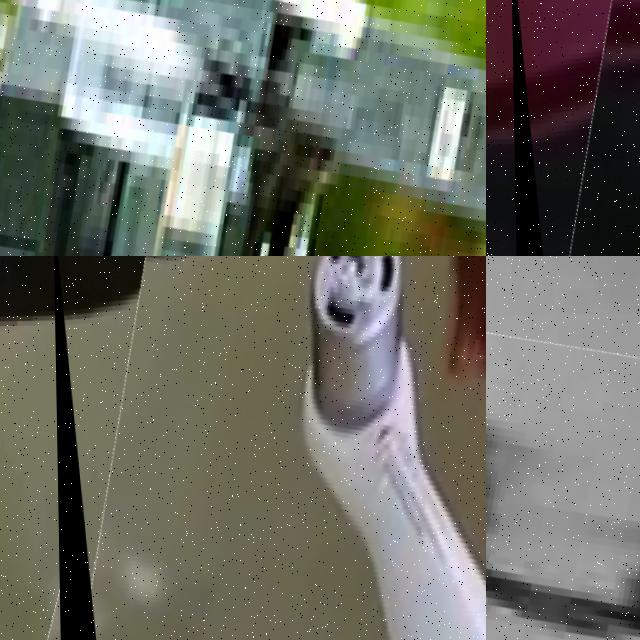drone: (52, 256, 486, 640), (0, 0, 486, 256), (486, 311, 640, 640), (510, 0, 640, 256)
